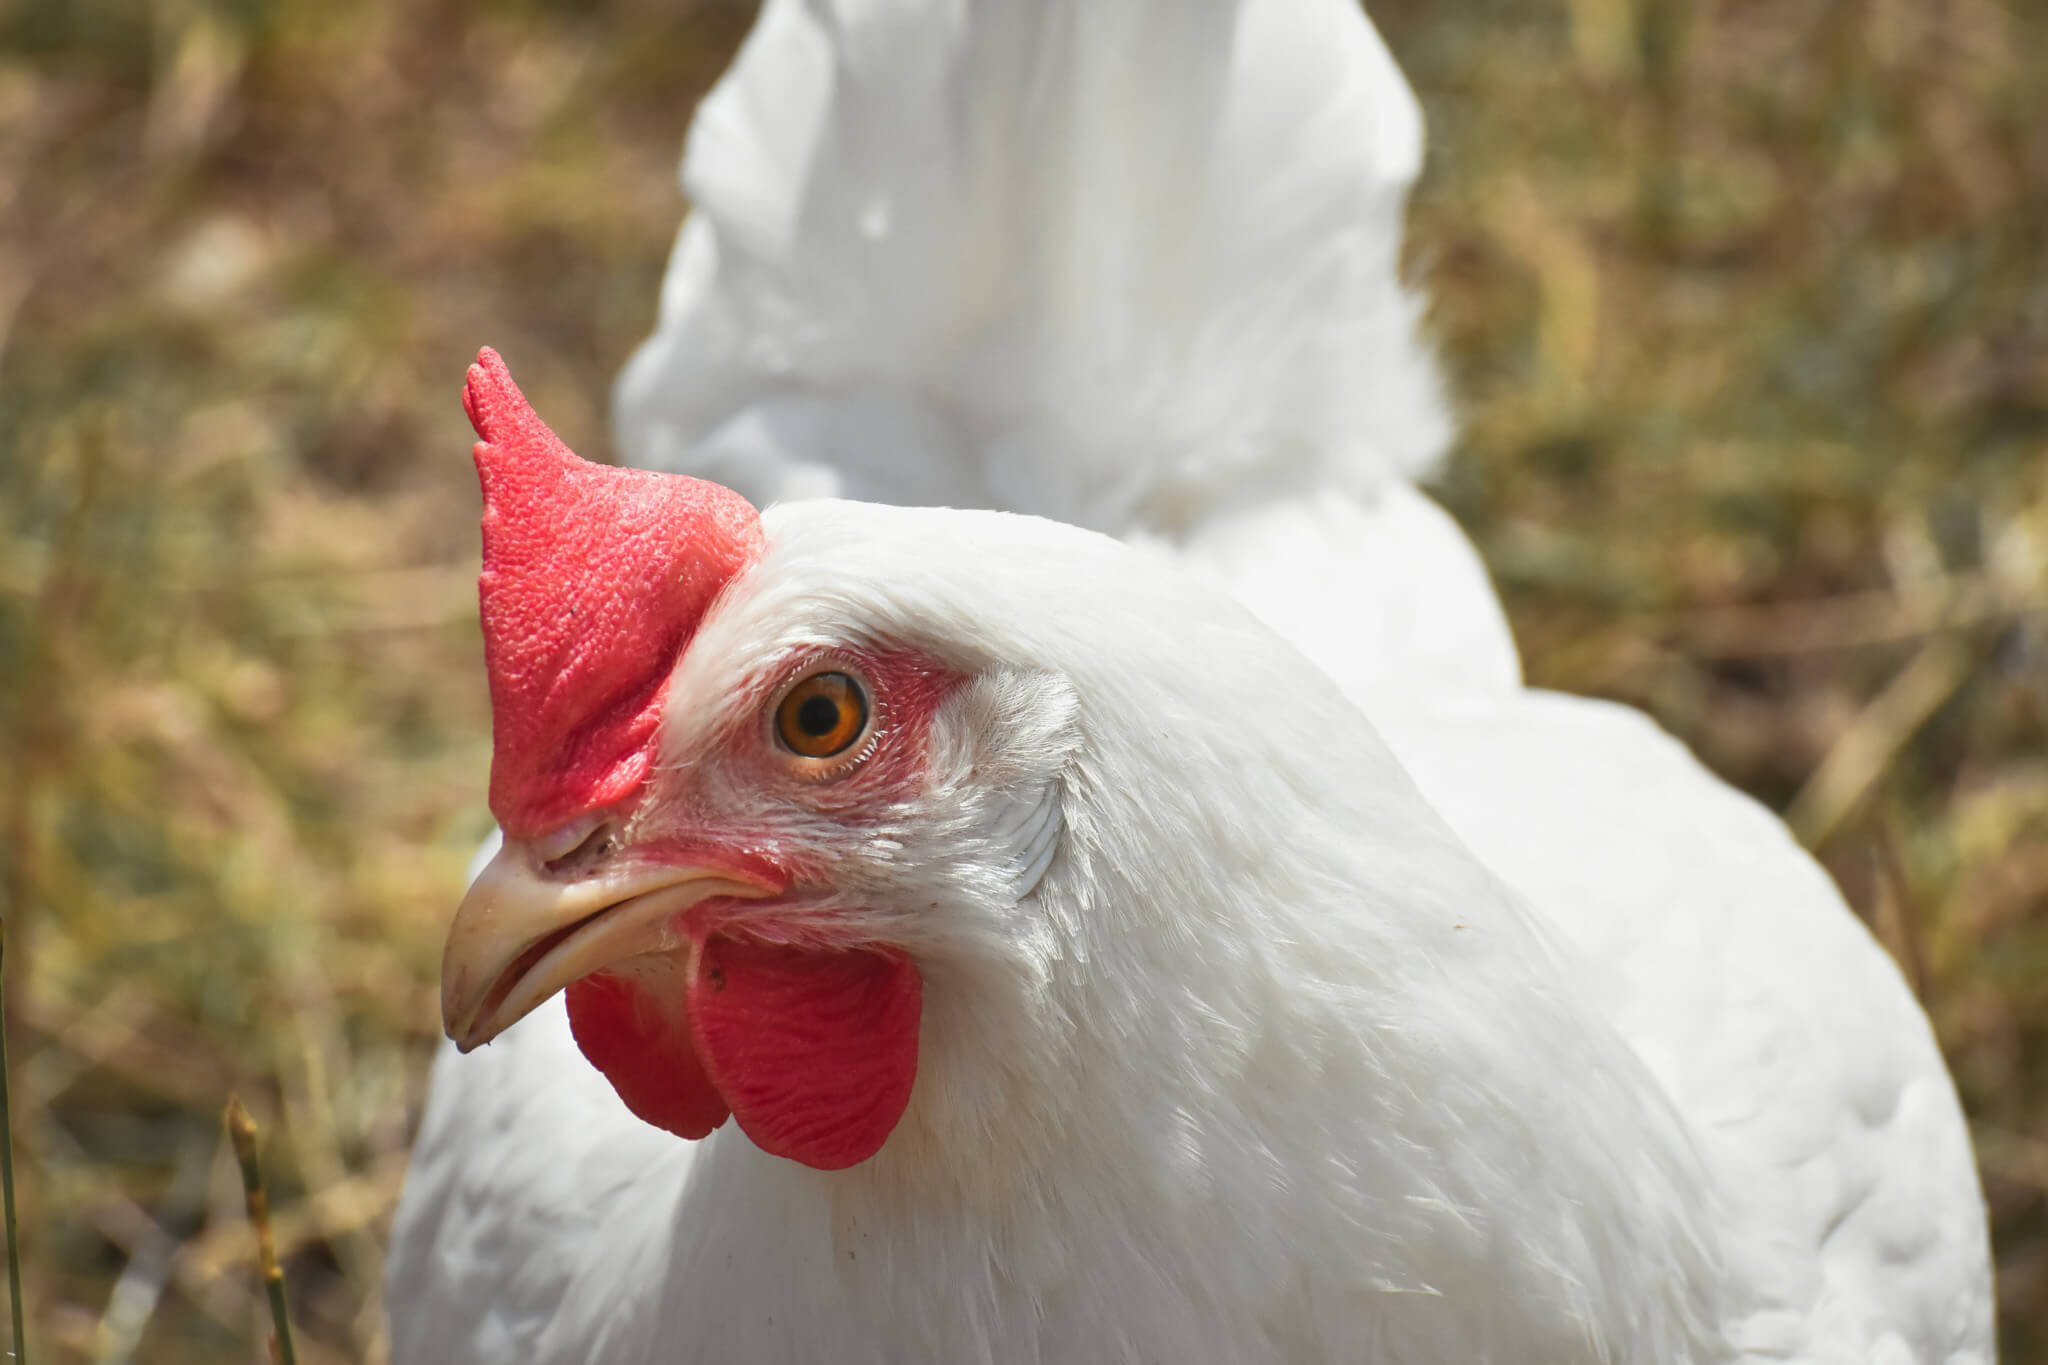Healthy: (314, 294, 1351, 1245)
